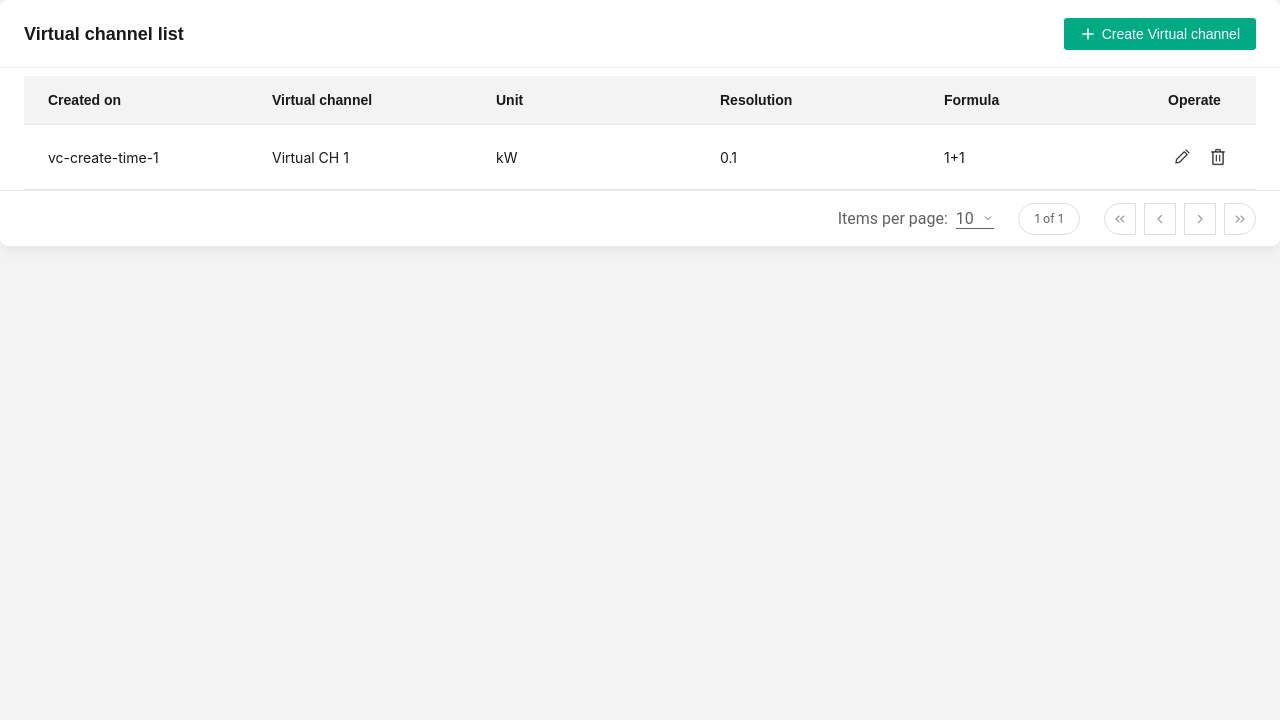
Scenario: VirtualChannel › populates channel name and unit in edit virtual channel modal
The image size is (1280, 720).
Click the button titled "Edit" at point(1182, 157), box [1168,141,1196,173]
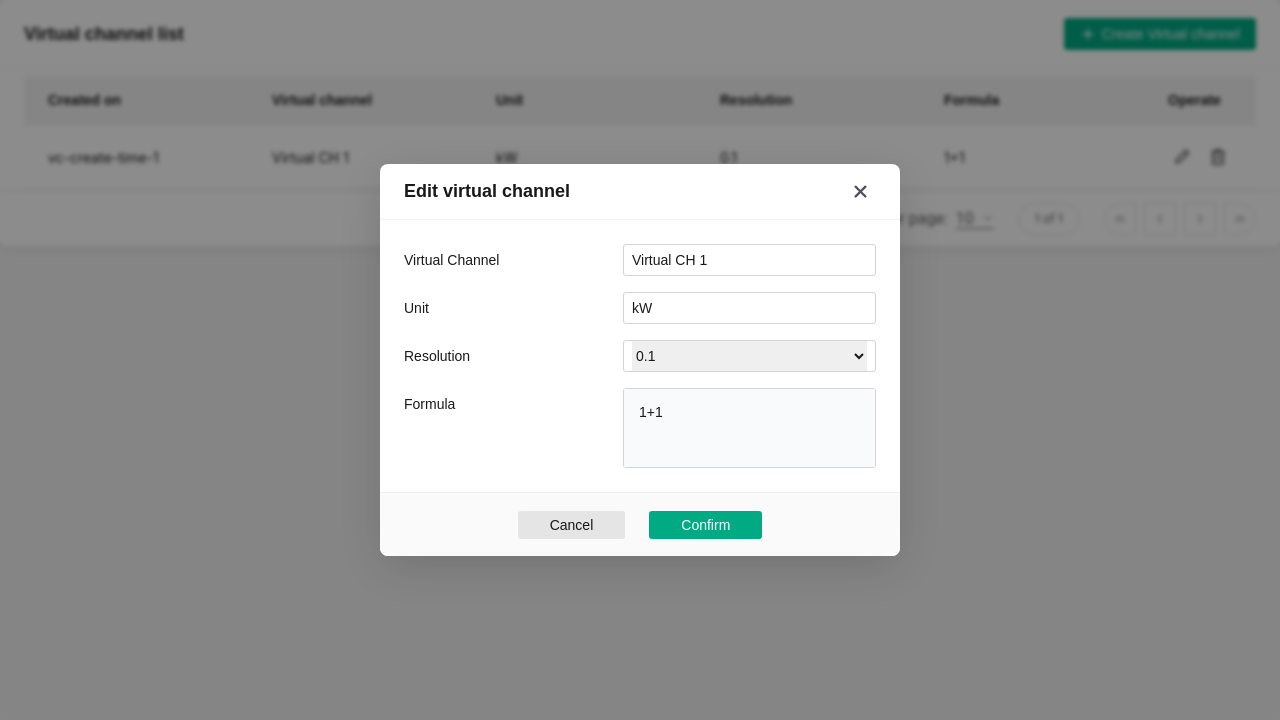
Result: the text "Edit virtual channel" is shown at [404,181,570,202]
Result: the 1st field showing "Virtual CH 1" is shown at [632,245,867,275]
Result: the 2nd field showing "kW" is shown at [632,293,867,323]
